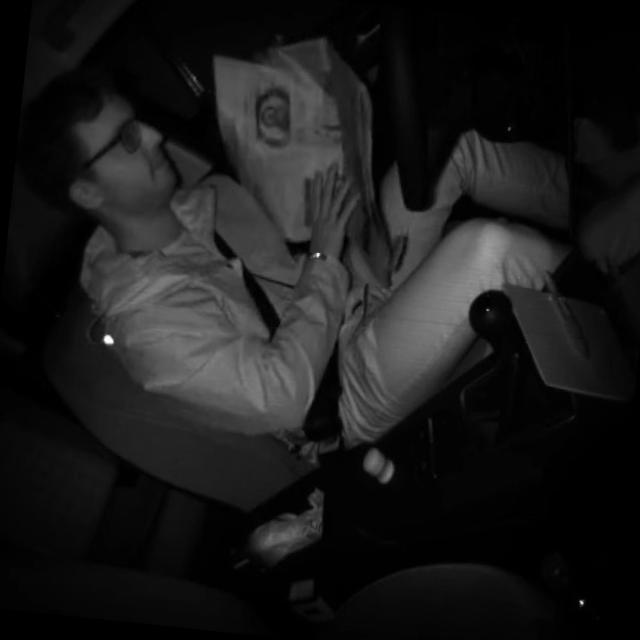pen: (533, 264, 595, 358)
